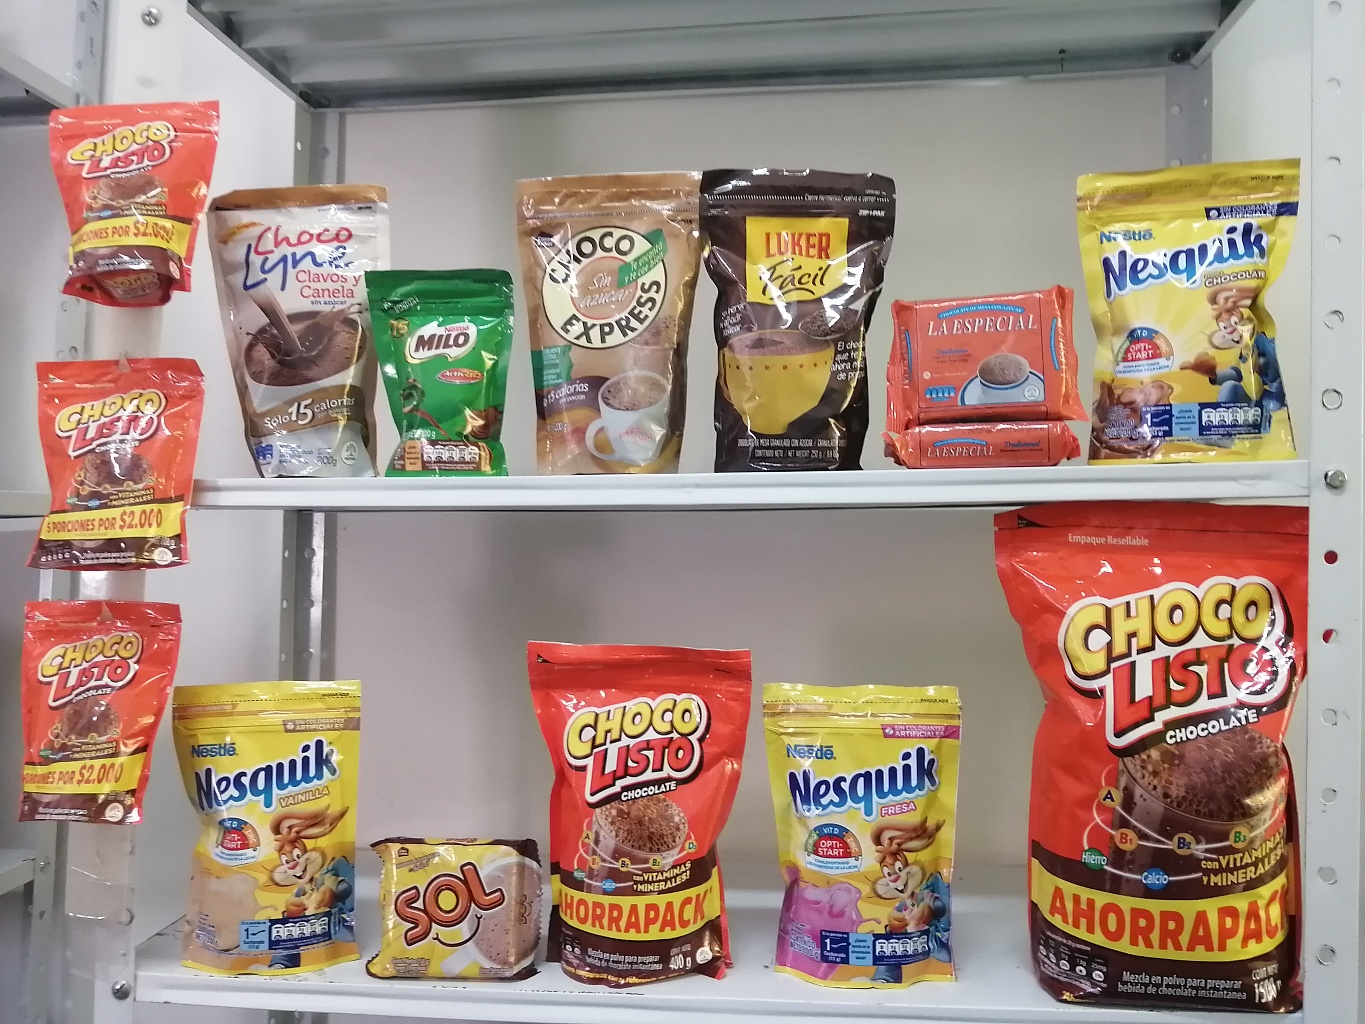COL0170103DYP1,500: (972, 503, 1303, 1006)
COL0170103DYP10000: (31, 87, 222, 319)
COL0170103DYP40000: (537, 632, 767, 987)
COL0170203DYP10000: (353, 256, 513, 481)
COL0170303DYP20000: (1083, 151, 1316, 460)
COL0170305DYP20000: (749, 674, 965, 990)
COL0170306DYP20000: (165, 667, 356, 981)
